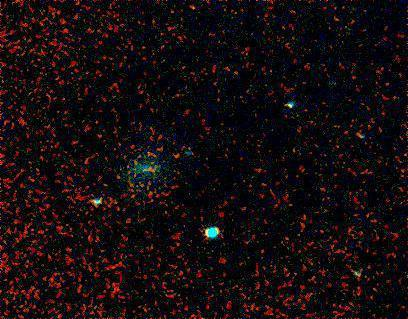star: (160, 143, 190, 173)
